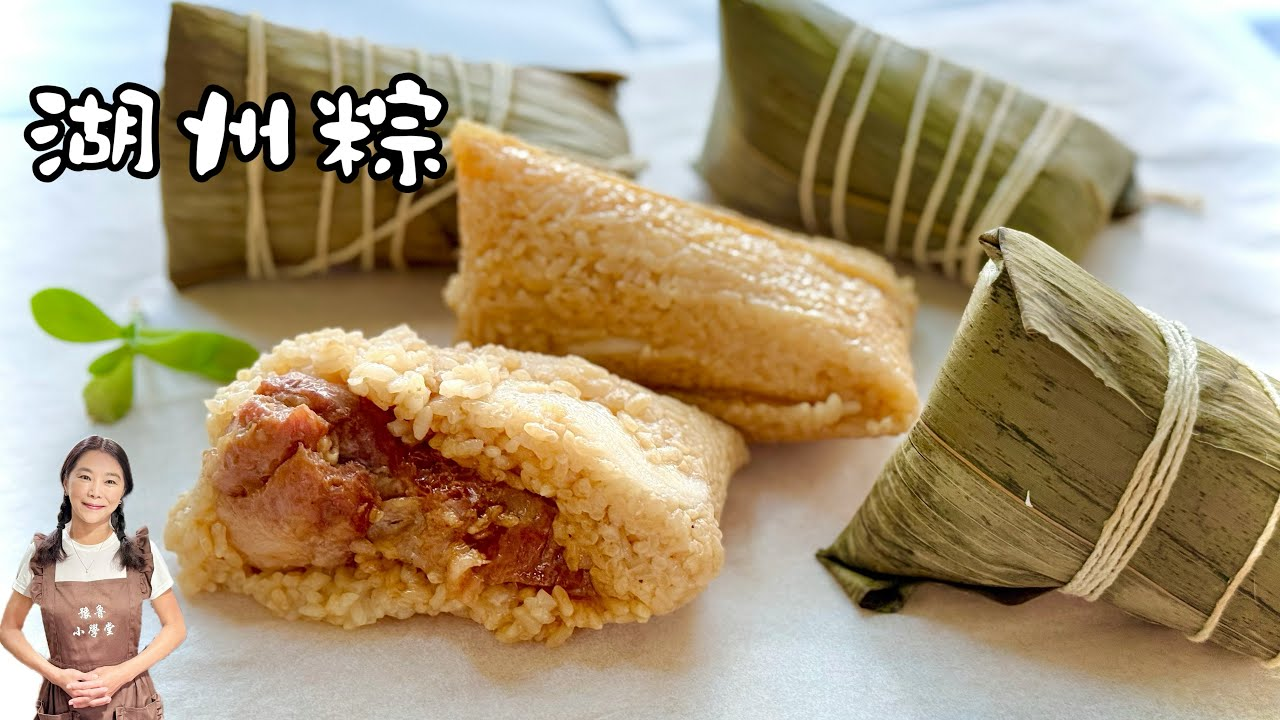zongzi: (177, 122, 918, 639), (821, 228, 1279, 661), (158, 2, 643, 287), (698, 0, 1140, 287)
